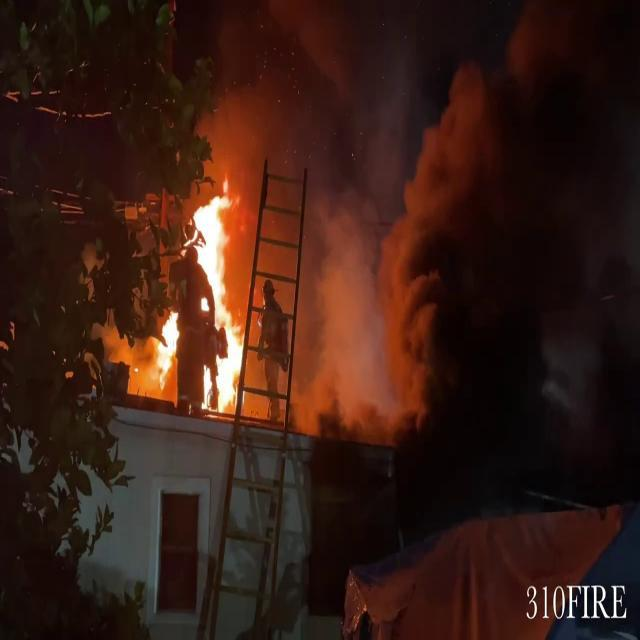Fire: (186, 178, 247, 418), (152, 306, 182, 388)
Smoke: (250, 1, 640, 452)
